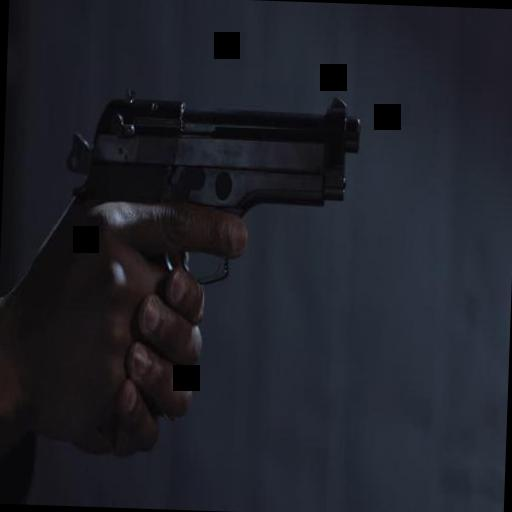Handgun: (51, 74, 361, 405)
